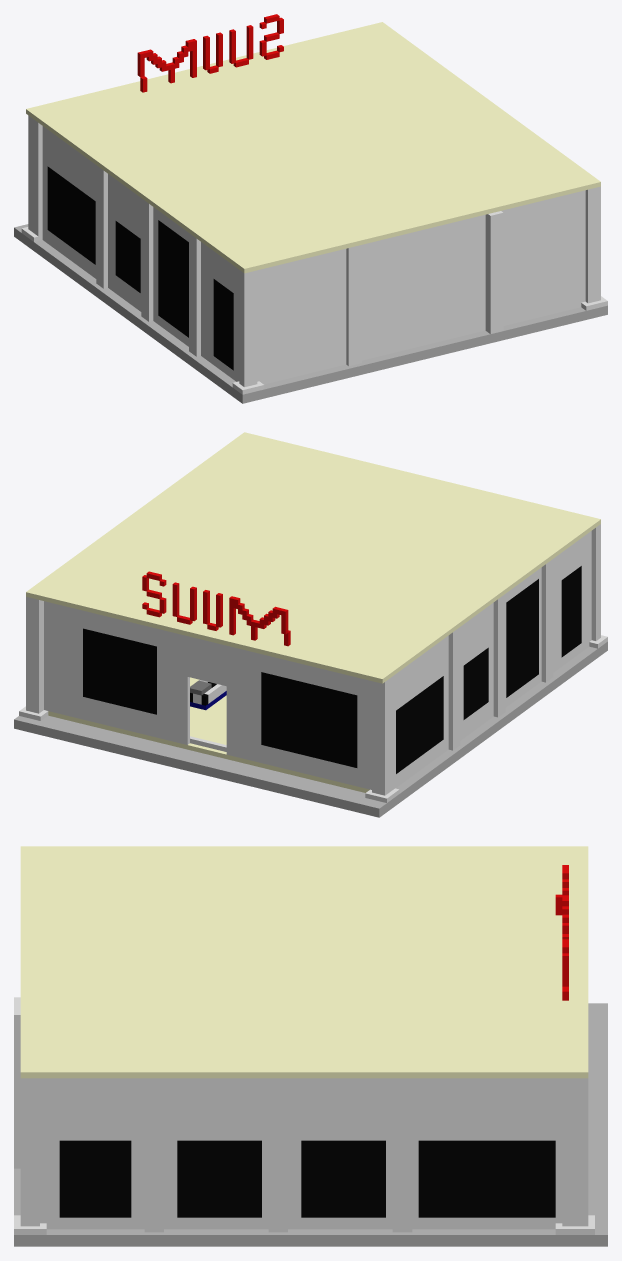
File: super market.obj
3 renders of one model, top to bottom at view 1: azimuth 30°, elevation 25°; view 2: azimuth 150°, elevation 25°; view 3: azimuth 270°, elevation 25°, orthographic. The views are drawn at different scales.
Size of the model in its own units: 8.4 by 3.8 by 9.1.
Materials: 1 (1 with a texture image).
